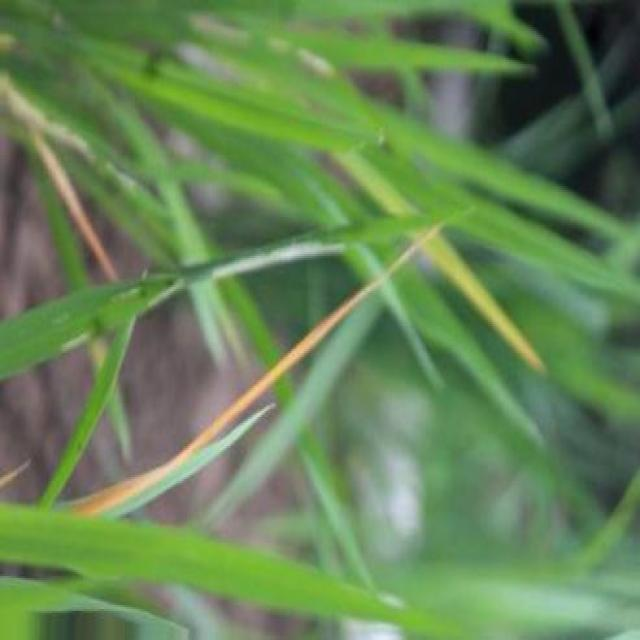Rice Tungro: (68, 227, 440, 517), (422, 235, 545, 372), (34, 133, 116, 280)
